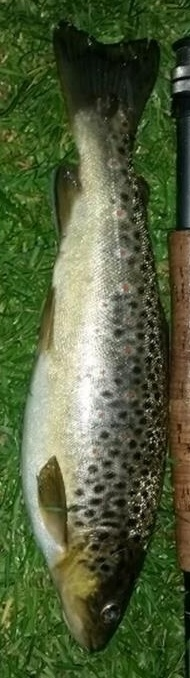Salmo trutta subsp. fario: (20, 20, 170, 658)
